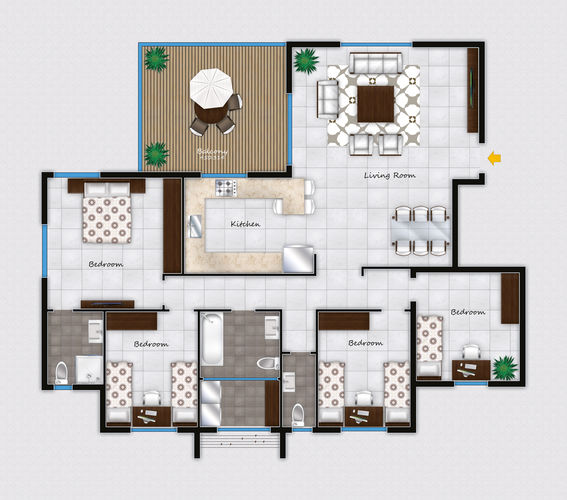balcony: (134, 39, 294, 181)
room: (284, 37, 491, 276), (38, 166, 188, 313), (178, 167, 317, 279), (408, 264, 528, 390), (312, 308, 417, 437), (99, 306, 202, 436), (193, 305, 283, 435), (39, 308, 107, 391), (277, 350, 319, 434)
